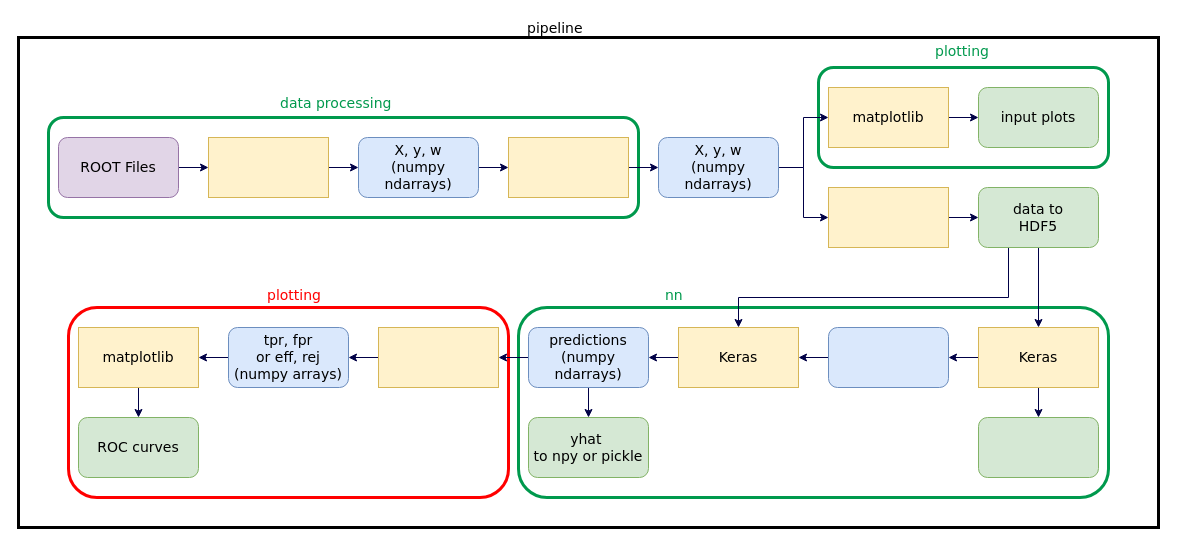
Some shapes in this 1177 by 546 pixel diagram are drawn without their labels. Here are the shapes that lost their labels. From the top down, the centre of each, then its label:
(268,167): root_numpy, pandas
(568,167): scikit-learn (train_test_split, StandardScaler, LabelEncoder)
(888,217): deepdish
(438,357): scikit-learn (roc_curve)
(888,357): trained net
(1038,447): NN weights to HDF5, NN structure to JSON
